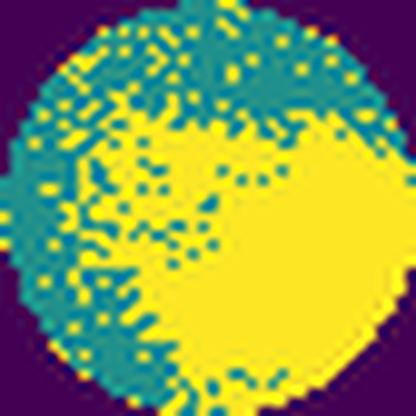Edge-Loc: (65, 86, 416, 416)
